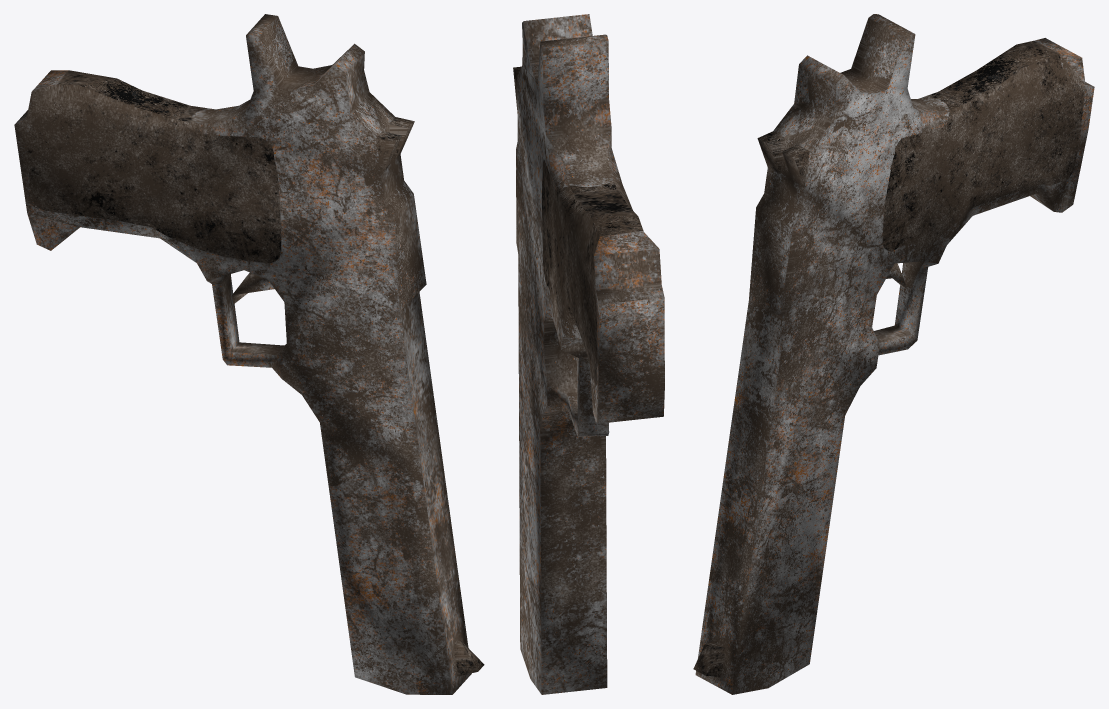
Rendered from Anim_idle_pistola_objetos.0049.obj.
3 renders of one model, left to right at view 1: azimuth 30°, elevation 25°; view 2: azimuth 150°, elevation 25°; view 3: azimuth 270°, elevation 25°, orthographic. The views are drawn at different scales.
Visible parts, largest first — view 1: Pistola1; view 2: Pistola1; view 3: Pistola1.
Part boxes in pixels (x1,y1,x2,y2): Pistola1: [14, 14, 484, 694]; Pistola1: [513, 14, 664, 694]; Pistola1: [693, 14, 1094, 694].
Bounding box in the file's own units: 0.8091 × 1.67 × 0.9836.
